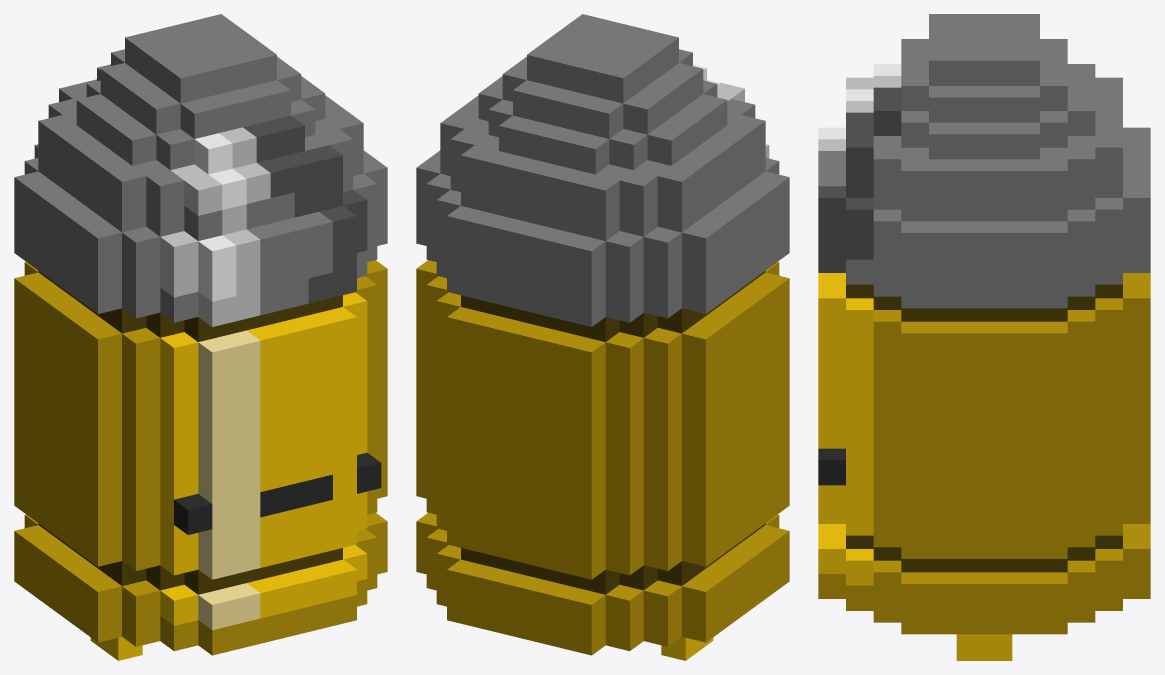
File: Bullet.obj
3 views of the same model, side by side, from view 1: azimuth 30°, elevation 25°; view 2: azimuth 150°, elevation 25°; view 3: azimuth 270°, elevation 25° (orthographic).
Parts seen in each view (by area): view 1: Object_2; view 2: Object_2; view 3: Object_2.
Boxes of the visible parts, x1,y1,x2,y2 form: Object_2: (14, 14, 387, 660); Object_2: (416, 14, 789, 660); Object_2: (818, 14, 1150, 660).
Bounding box in the file's own units: 12 × 23 × 12.
1 material, 1 textured.
